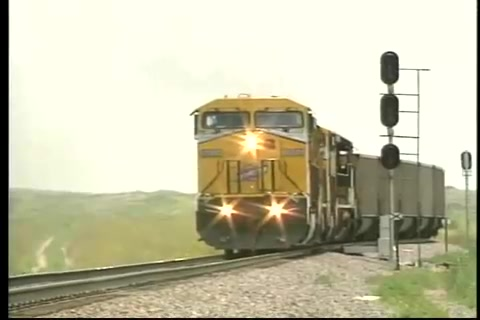train: (191, 92, 447, 258)
